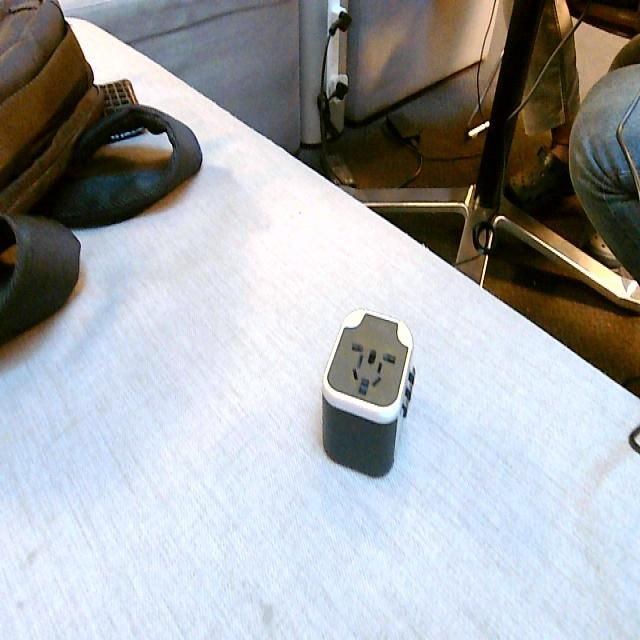adapter: (320, 307, 416, 477)
